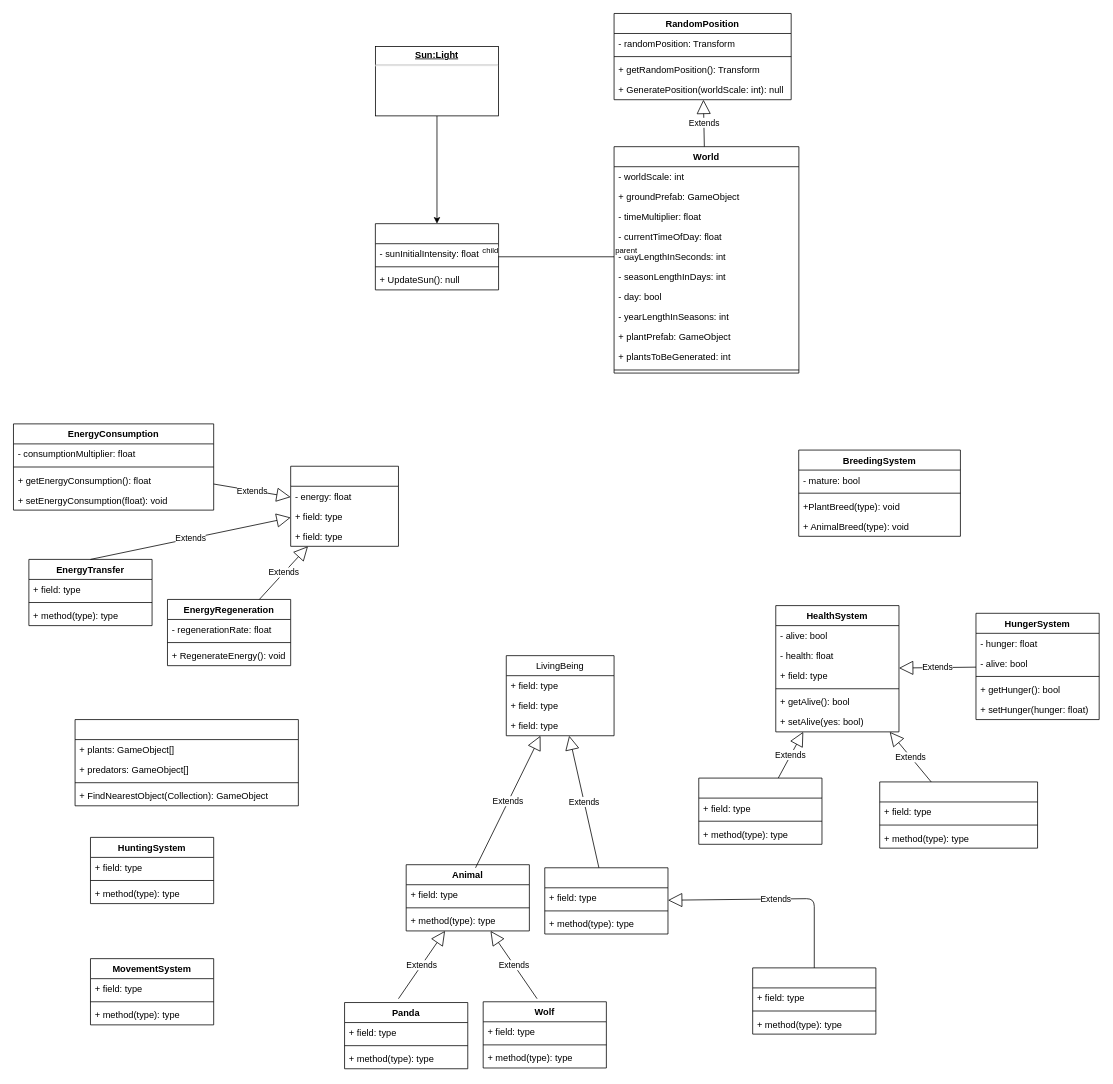
Image size: 1113x1084. Some labels were removed from this diagram. Each missing label, with the box of its shape:
Bamboo: (752, 967, 876, 1034)
DamageSystem: (698, 777, 822, 844)
DayNightCycle: (375, 223, 499, 290)
DetectionSystem: (74, 719, 298, 806)
EnergySystem: (290, 465, 398, 546)
HealthRegenerationSystem: (879, 781, 1038, 848)
Plant: (544, 867, 668, 934)
